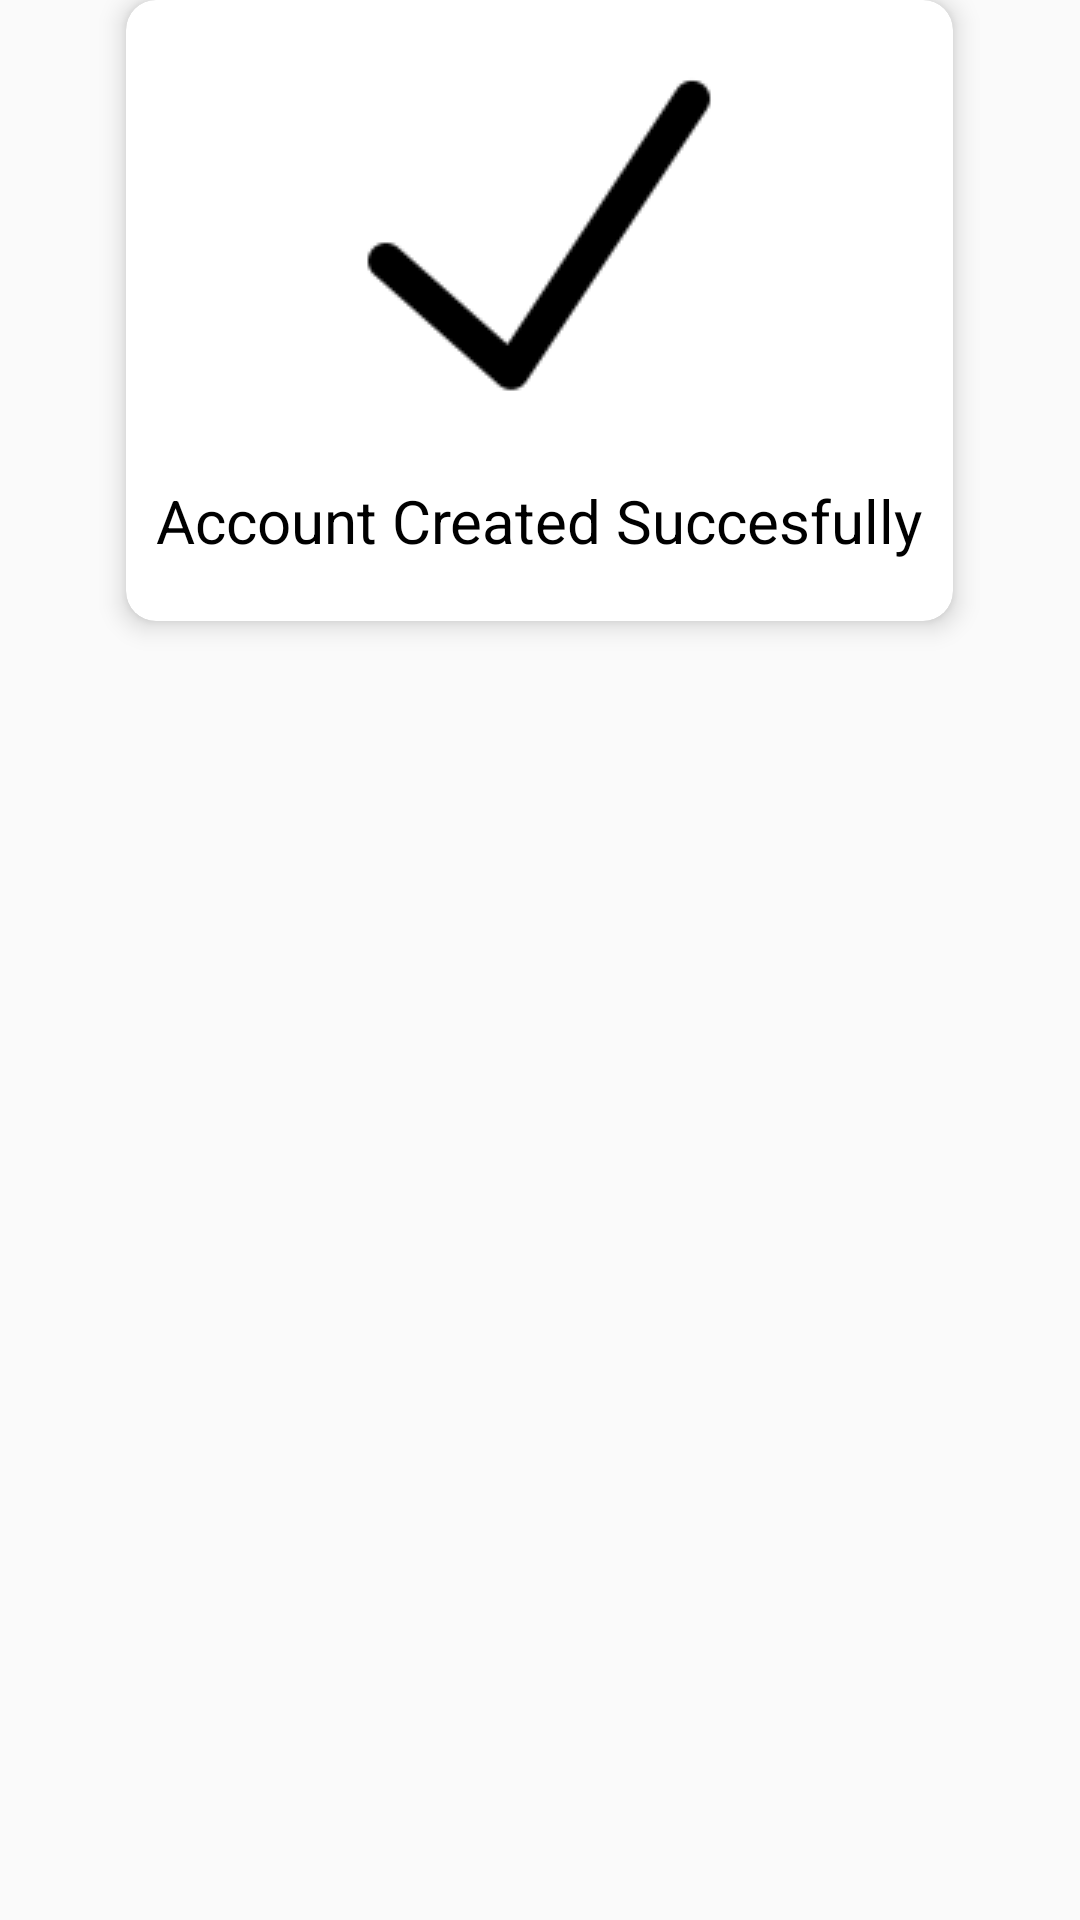

Screen size 1080 × 1920. Icon name, then its center in pixels as (x,y):
done: (539,235)
